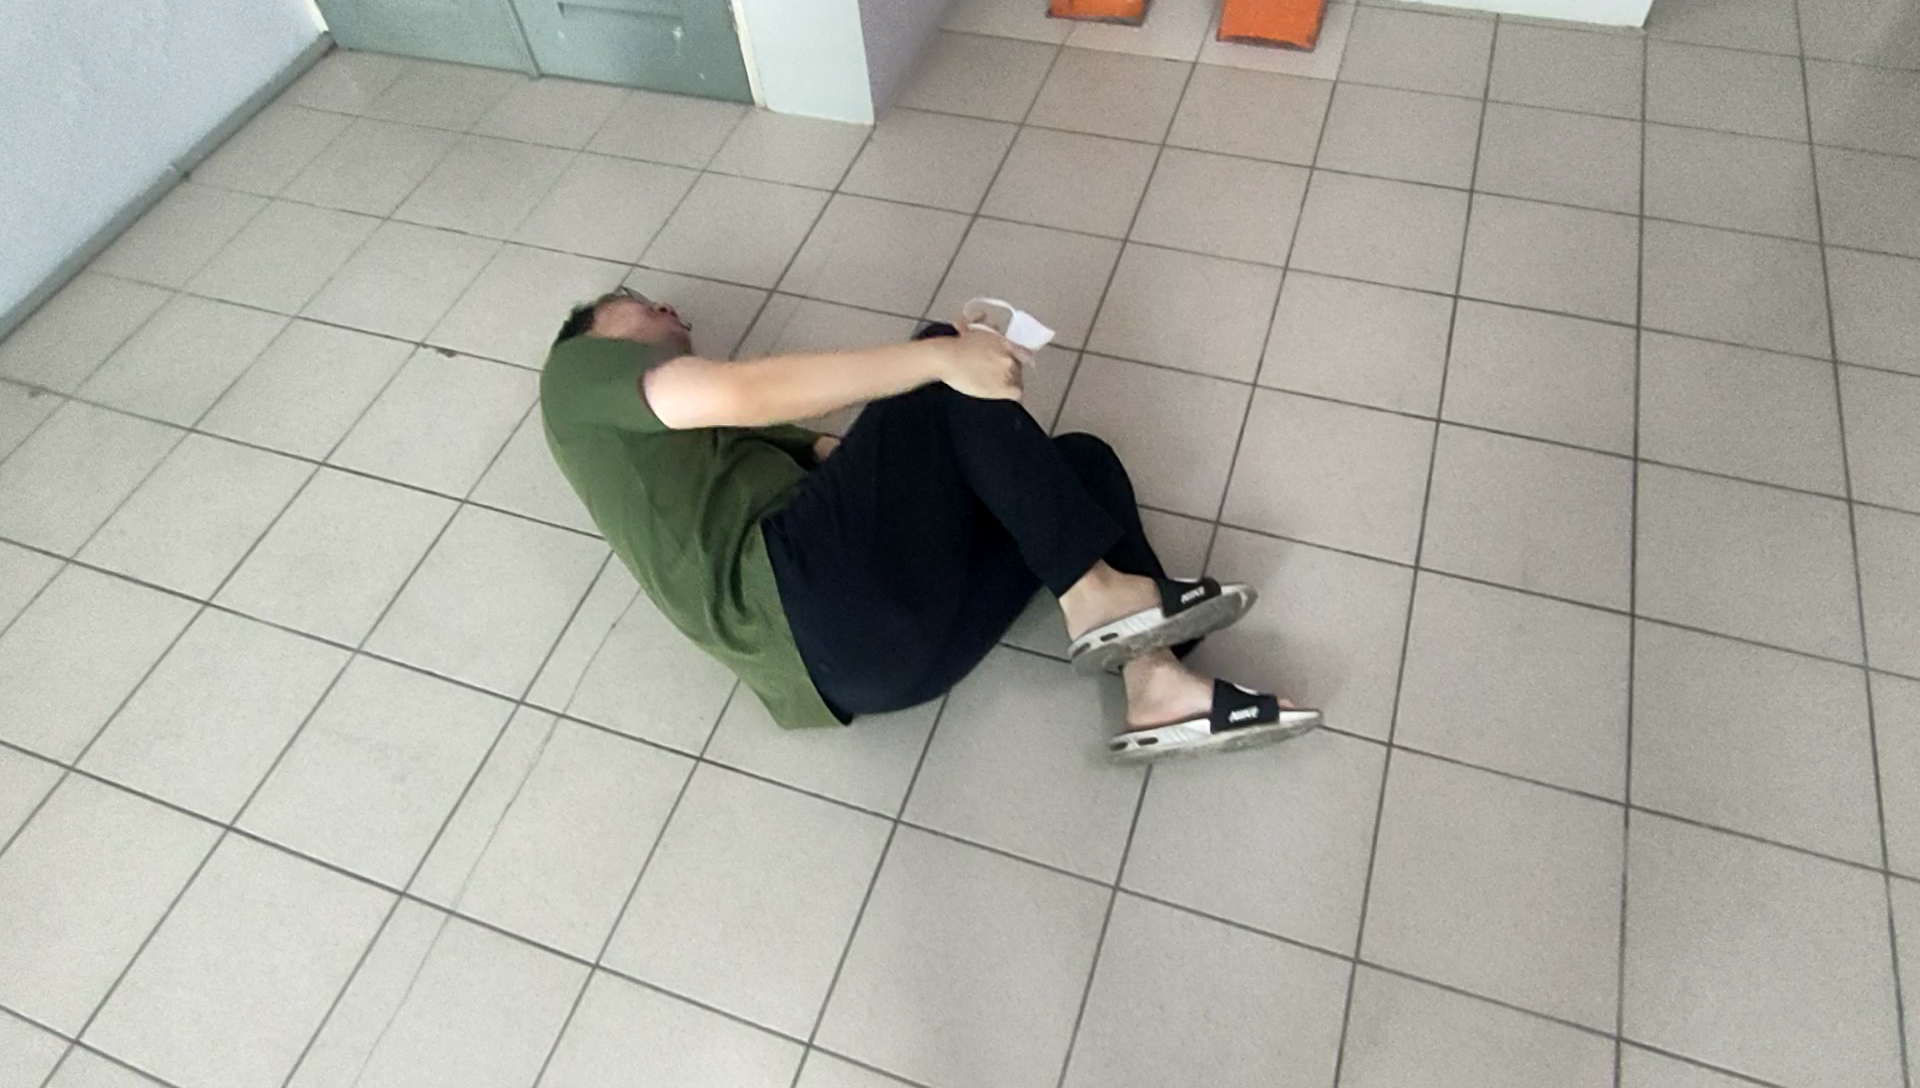fall: (538, 285, 1325, 768)
